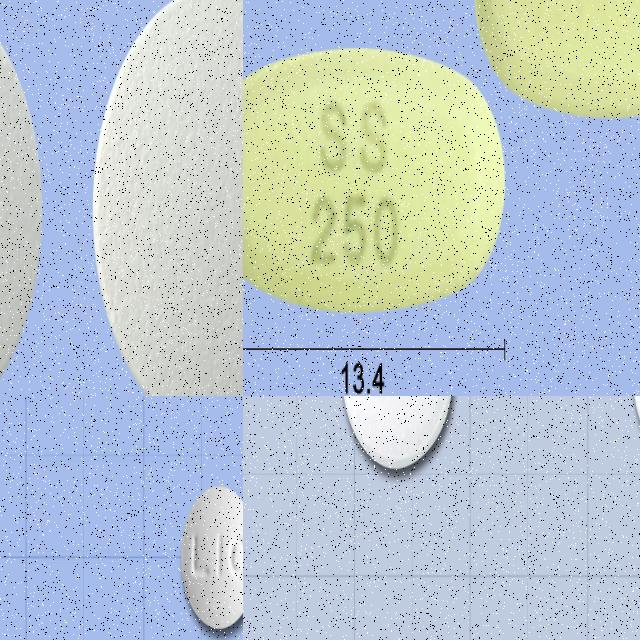Ilsung Augmentin - 625mg: (340, 396, 455, 470)
Levomicin: (91, 0, 243, 396)
Luarva - 20mg: (181, 486, 243, 632)
Samsung Clarithromycin Tab-500mg: (243, 44, 507, 308), (473, 0, 640, 115)
